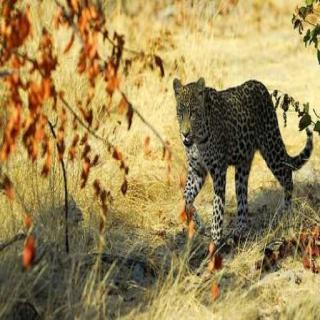Leopard: (139, 62, 317, 246)
